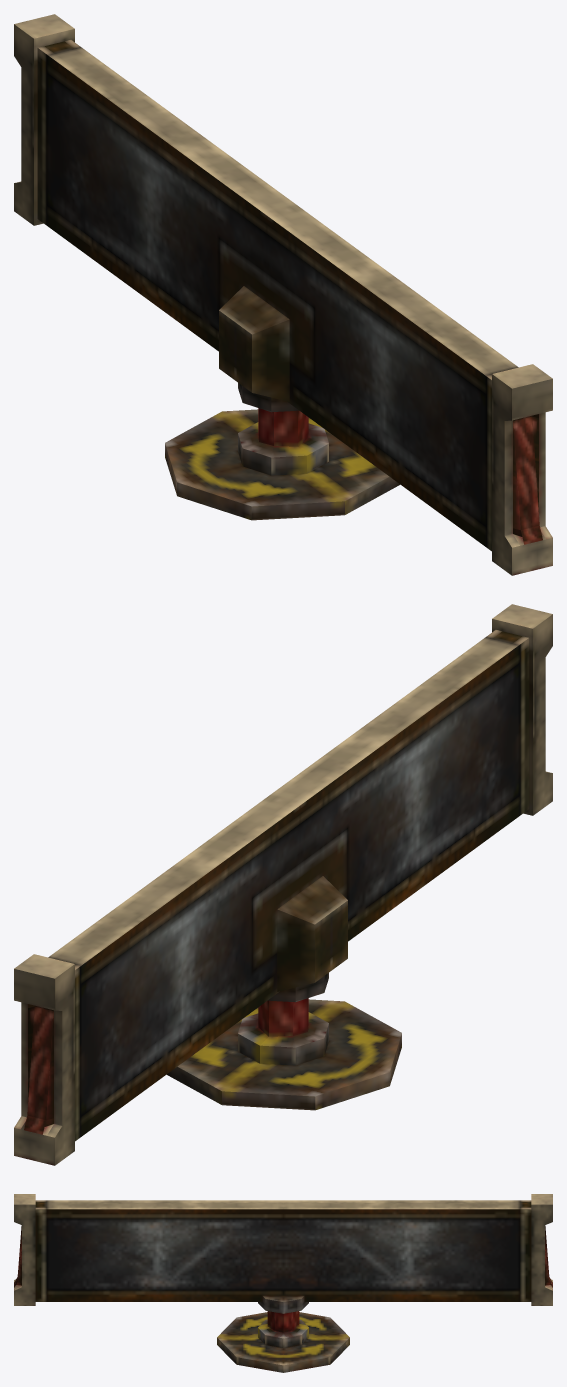
File: Wall_Spin.fbx
3 renders of one model, top to bottom at view 1: azimuth 30°, elevation 25°; view 2: azimuth 150°, elevation 25°; view 3: azimuth 270°, elevation 25°, orthographic. The views are drawn at different scales.
Parts seen in each view (by area): view 1: Wall, Stand; view 2: Wall, Stand; view 3: Wall, Stand.
Part boxes in pixels (x1,y1,x2,y2): Wall: [14, 14, 552, 575]; Stand: [165, 409, 399, 520]; Wall: [14, 604, 552, 1165]; Stand: [167, 999, 401, 1110]; Wall: [14, 1194, 552, 1332]; Stand: [217, 1312, 349, 1372].
Bounding box in the file's own units: 520 × 628 × 2109.
